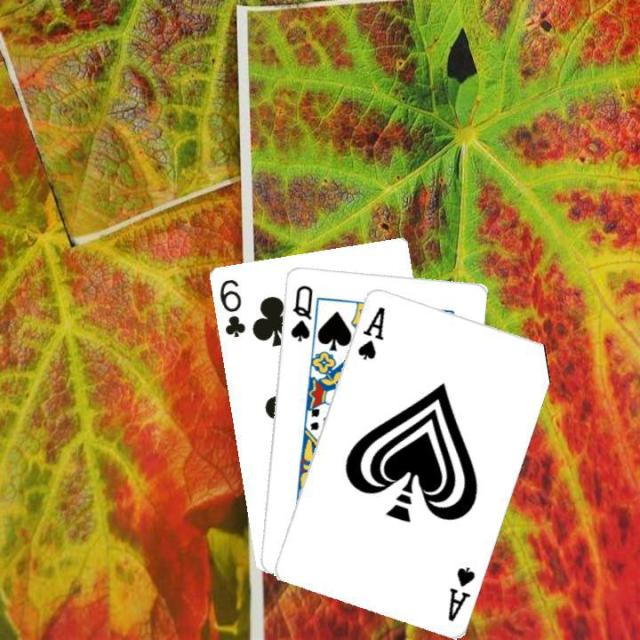6C: (215, 274, 247, 338)
AS: (353, 302, 387, 361), (444, 562, 476, 623)
QS: (286, 281, 314, 343)
